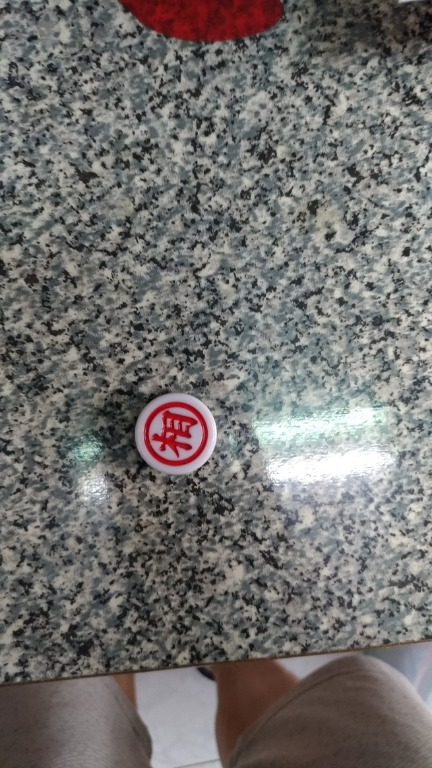r-elephant: (119, 379, 238, 482)
